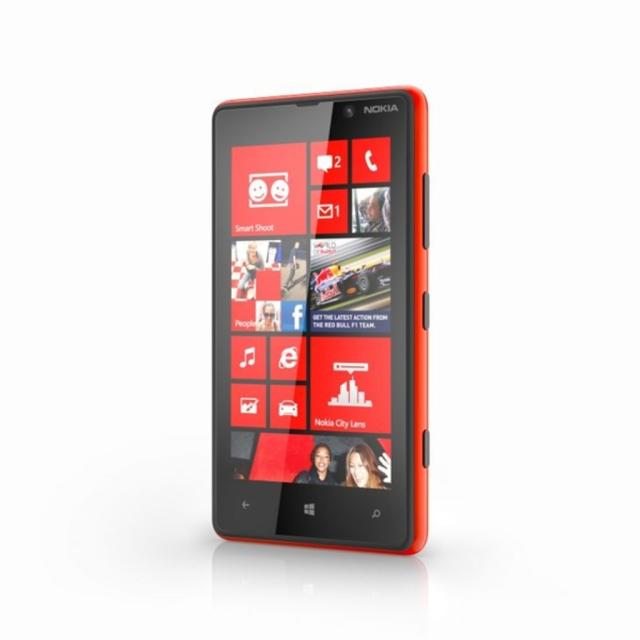Mobile-phone: (195, 72, 438, 566)
